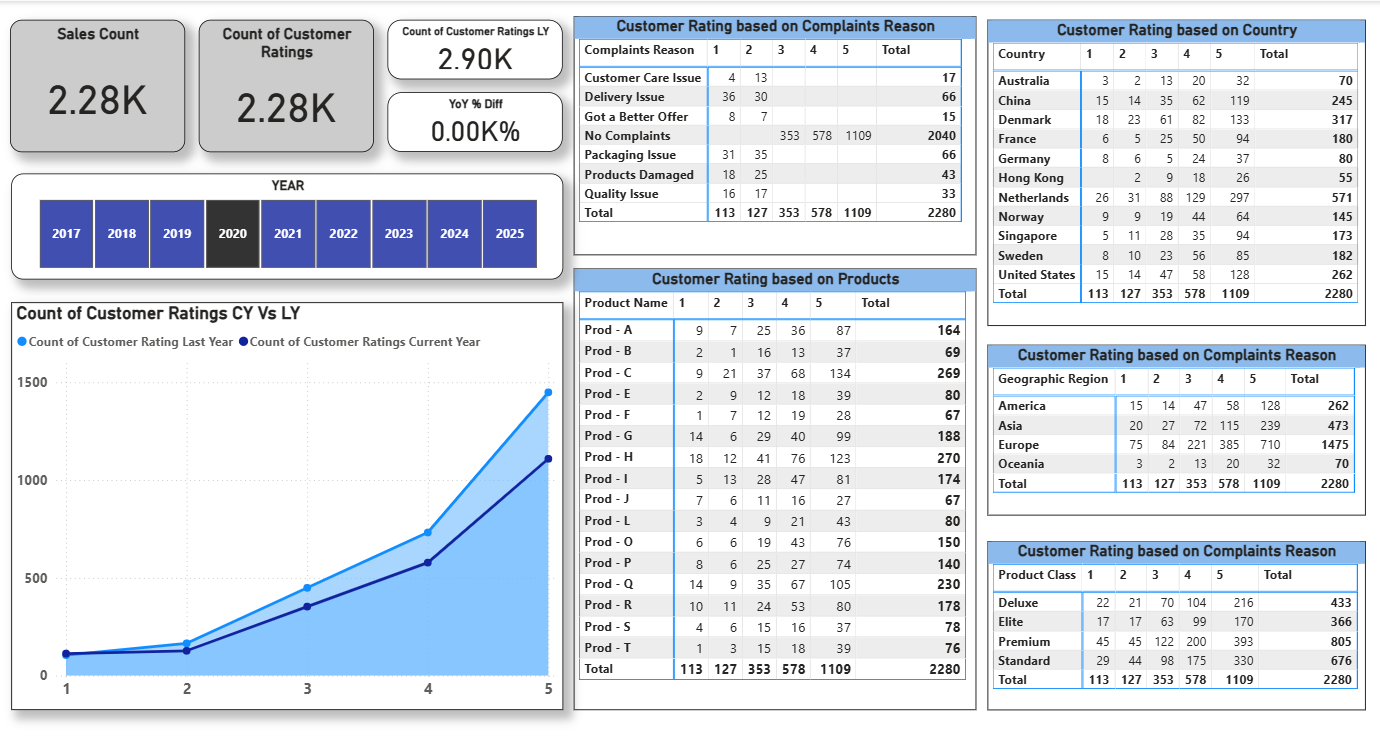

The dashboard page shown, as its layout file describes it:
{"tool":"powerbi","page":{"name":"Customer Rating Analysis","canvas":[1500,800],"ordinal":1},"visuals":[{"type":"card","title":"Sales Count","fields":{"Values":["ALL Measures.Sales Count"]},"box":[11.5,20.2,190.4,144.3],"z":0},{"type":"card","title":"Count of Customer Ratings","fields":{"Values":["ALL Measures.Count of Customer Ratings"]},"box":[216.4,20.2,190.4,144.3],"z":1000},{"type":"card","title":"Count of Customer Ratings LY","fields":{"Values":["ALL Measures.Count of Customer Rating LY"]},"box":[421.3,20.2,190.4,64.9],"z":2000},{"type":"card","title":"YoY % Diff","fields":{"Values":["ALL Measures.YoY % Diff in Ratings"]},"box":[421.3,99.6,190.4,64.9],"z":3000},{"type":"pivotTable","title":"Customer Rating based on Complaints Reason","fields":{"Rows":["Sales Data.Complaints Reason"],"Columns":["Sales Data.Customer Rating"],"Values":["ALL Measures.Count of Customer Ratings"]},"box":[623.9,16.9,437.9,260.4],"z":4000},{"type":"pivotTable","title":"Customer Rating based on Country","fields":{"Columns":["Sales Data.Customer Rating"],"Values":["ALL Measures.Count of Customer Ratings"],"Rows":["Location Details.Country"]},"box":[1073.6,20.3,410.8,333.1],"z":5000},{"type":"pivotTable","title":"Customer Rating based on Products","fields":{"Columns":["Sales Data.Customer Rating"],"Values":["ALL Measures.Count of Customer Ratings"],"Rows":["Products Details.Product Name"]},"box":[623.9,290.8,437.9,480.2],"z":6000},{"type":"pivotTable","title":"Customer Rating based on Complaints Reason","fields":{"Columns":["Sales Data.Customer Rating"],"Values":["ALL Measures.Count of Customer Ratings"],"Rows":["Location Details.Geographic Region"]},"box":[1073.6,373.7,410.8,186],"z":7000},{"type":"pivotTable","title":"Customer Rating based on Complaints Reason","fields":{"Columns":["Sales Data.Customer Rating"],"Values":["ALL Measures.Count of Customer Ratings"],"Rows":["Products Details.Product Class"]},"box":[1073.6,586.7,410.8,184.3],"z":8000},{"type":"slicer","title":"YEAR","fields":{"Values":["Calendar Table.Year"]},"box":[11.8,187.7,600.2,115],"z":9000},{"type":"areaChart","title":"Count of Customer Ratings CY Vs LY","fields":{"Category":["Sales Data.Customer Rating"],"Y":["ALL Measures.Count of Customer Rating LY","ALL Measures.Count of Customer Ratings"]},"box":[11.8,328,600.2,443],"z":10000}]}

Visuals, with their boxes in screenshot pixels (x1, y1, x2, y2), scaled from the page's 1500x800 canvas onto the 1380x737 screenshot:
"Sales Count" card: bbox=(11, 19, 186, 152)
"Count of Customer Ratings" card: bbox=(199, 19, 374, 152)
"Count of Customer Ratings LY" card: bbox=(388, 19, 563, 78)
"YoY % Diff" card: bbox=(388, 92, 563, 152)
"Customer Rating based on Complaints Reason" pivotTable: bbox=(574, 16, 977, 255)
"Customer Rating based on Country" pivotTable: bbox=(988, 19, 1366, 326)
"Customer Rating based on Products" pivotTable: bbox=(574, 268, 977, 710)
"Customer Rating based on Complaints Reason" pivotTable: bbox=(988, 344, 1366, 516)
"Customer Rating based on Complaints Reason" pivotTable: bbox=(988, 540, 1366, 710)
"YEAR" slicer: bbox=(11, 173, 563, 279)
"Count of Customer Ratings CY Vs LY" areaChart: bbox=(11, 302, 563, 710)
